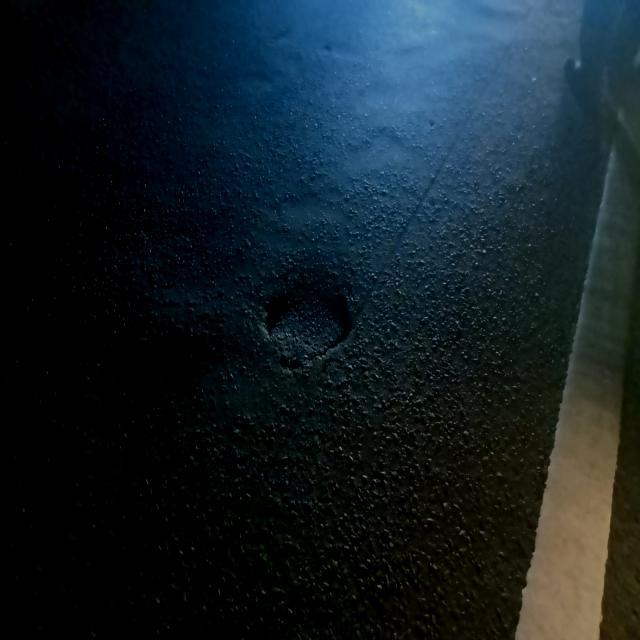Buraco: (250, 269, 362, 380)
